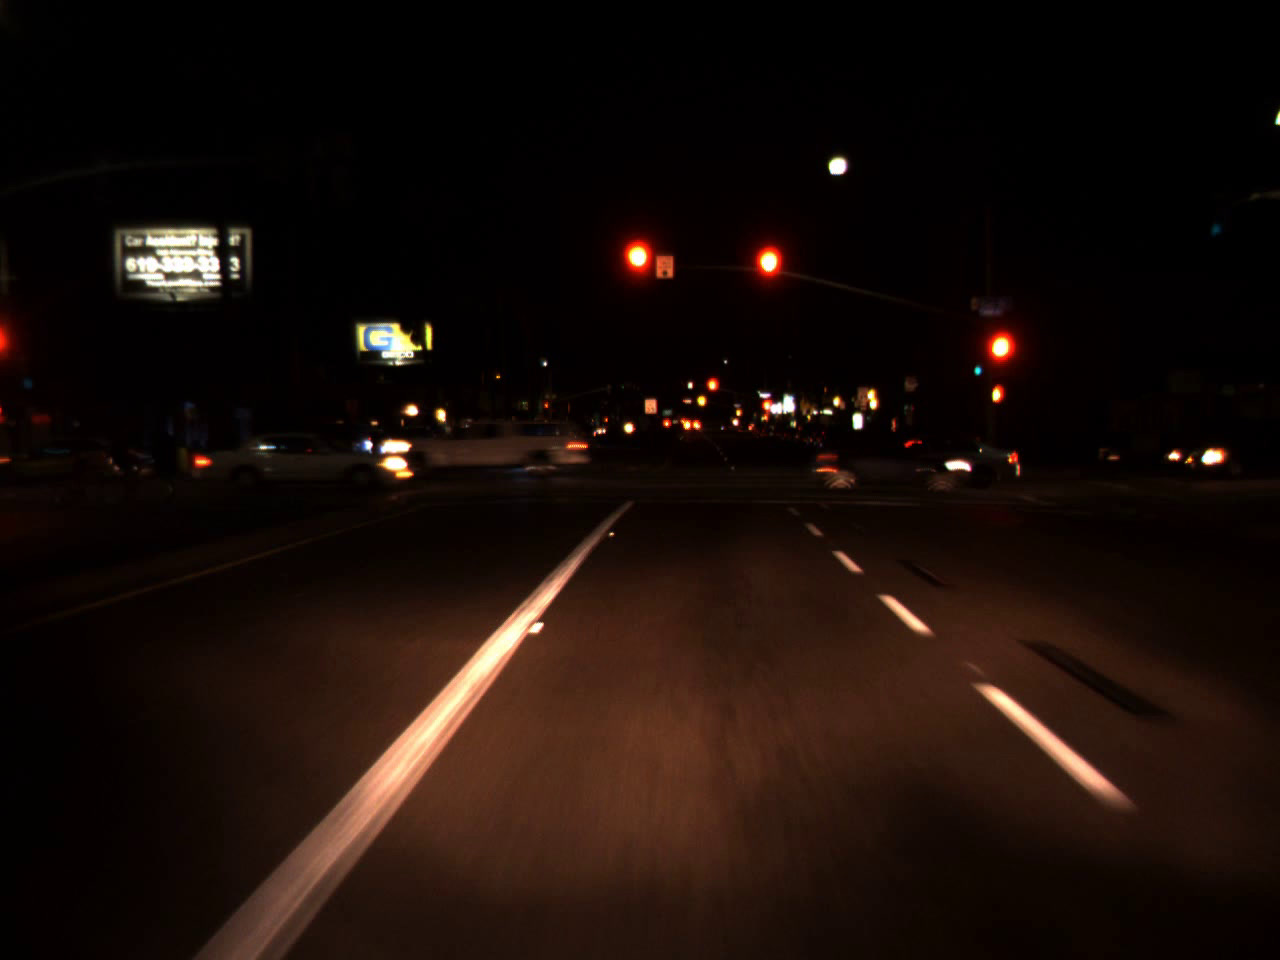stop: (979, 324, 1016, 399), (620, 241, 657, 316), (750, 241, 787, 316), (759, 397, 774, 429), (705, 376, 718, 405), (543, 403, 549, 413)
warning: (696, 388, 708, 413), (734, 406, 741, 416)
